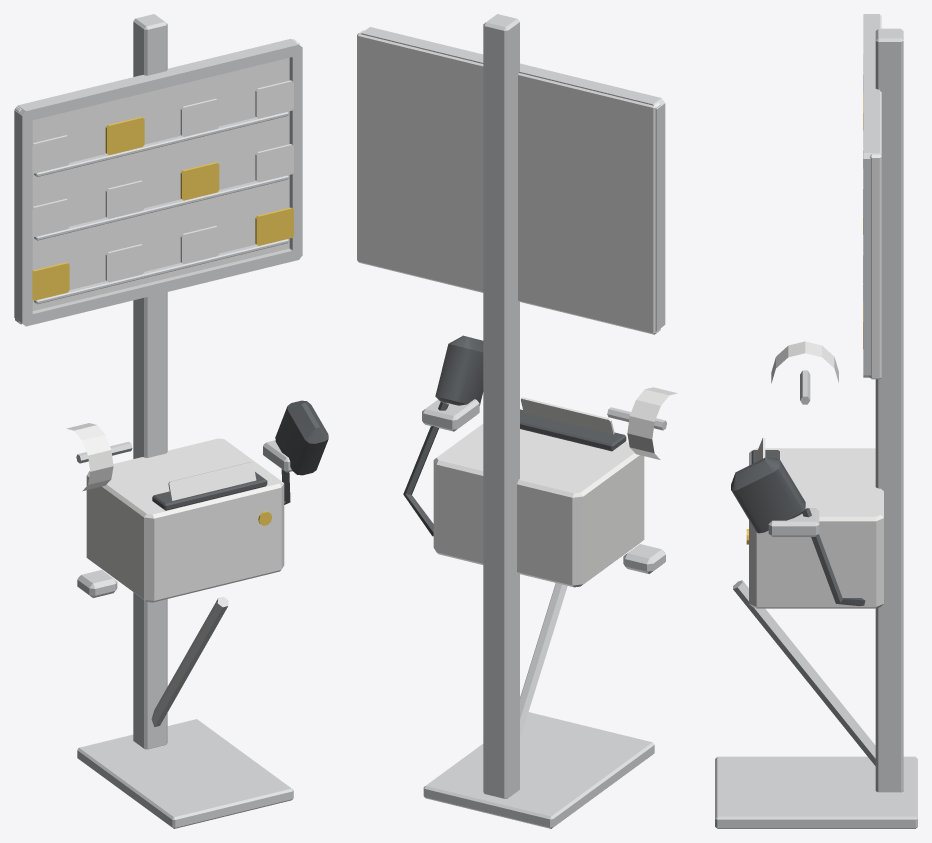
The model's file is laundrette-and-cleaning-order-rail-label-unit-eabac115__25564.glb.
The picture shows the model from 3 angles, left to right: view 1: azimuth 30°, elevation 25°; view 2: azimuth 150°, elevation 25°; view 3: azimuth 270°, elevation 25°; orthographic projection. The views are drawn at different scales.
Parts seen in each view (by area): view 1: order-rail-label-unit; view 2: order-rail-label-unit; view 3: order-rail-label-unit.
Boxes of the visible parts, x1,y1,x2,y2 form: order-rail-label-unit: [14, 14, 328, 828]; order-rail-label-unit: [357, 14, 677, 828]; order-rail-label-unit: [715, 14, 917, 828].
Bounding box in the file's own units: 0.6011 × 1.5 × 0.36.
